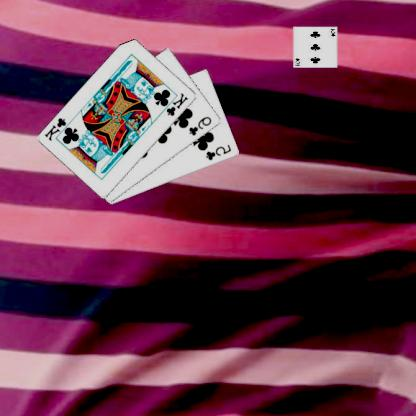5C: (206, 142, 235, 162)
9C: (188, 114, 215, 137)
KC: (160, 90, 191, 117), (44, 115, 75, 142)
